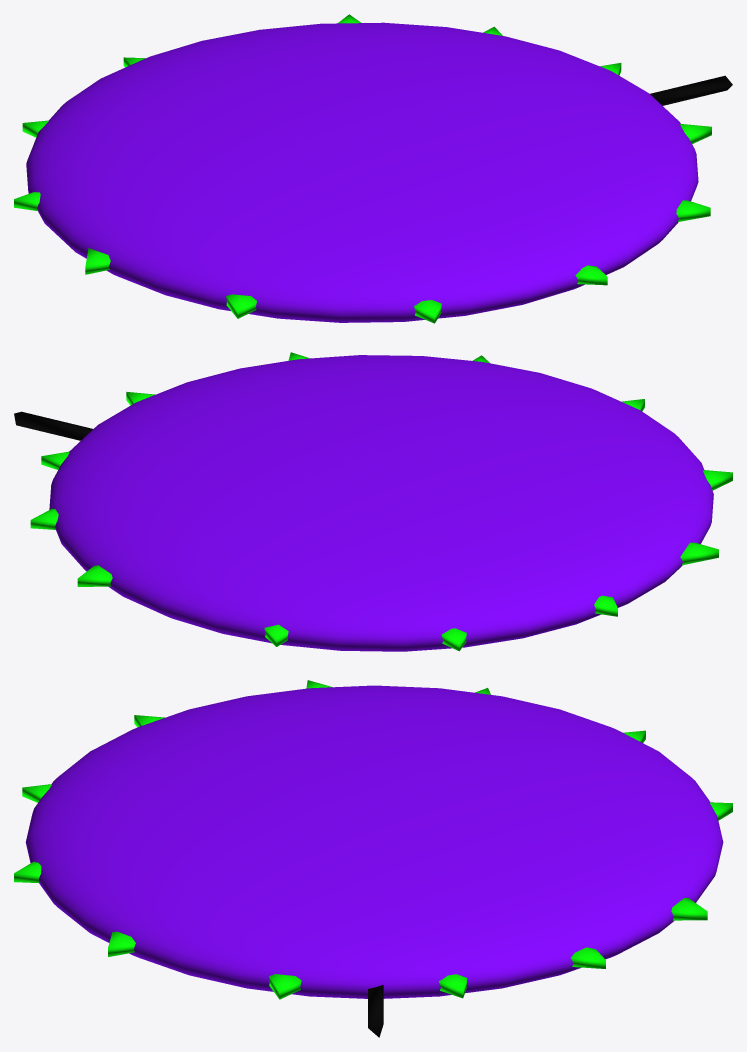
Rendered from nave1.fbx.
The picture shows the model from 3 angles, top to bottom: view 1: azimuth 30°, elevation 25°; view 2: azimuth 150°, elevation 25°; view 3: azimuth 270°, elevation 25°; orthographic projection. The views are drawn at different scales.
Visible parts, largest first — view 1: Sphere, picos, Cylinder; view 2: Sphere, picos, Cylinder; view 3: Sphere, picos, Cylinder.
Boxes of the visible parts, x1,y1,x2,y2 form: Sphere: (26,22,698,322); picos: (14,14,711,323); Cylinder: (650,75,732,105); Sphere: (49,355,713,651); picos: (30,352,732,651); Cylinder: (14,411,92,440); Sphere: (25,685,723,998); picos: (14,680,732,999); Cylinder: (368,985,383,1037).
Size of the model in its own units: 90.36 by 23.7 by 80.01.
